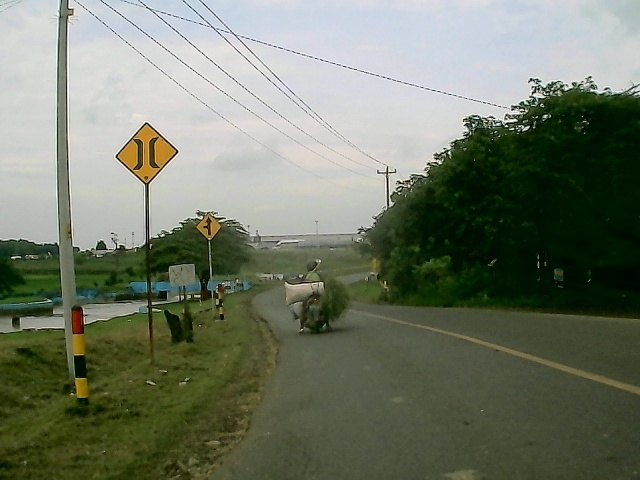Jembatan: (111, 119, 185, 189)
Simpang kiri dengan prioritas: (195, 211, 223, 242)
